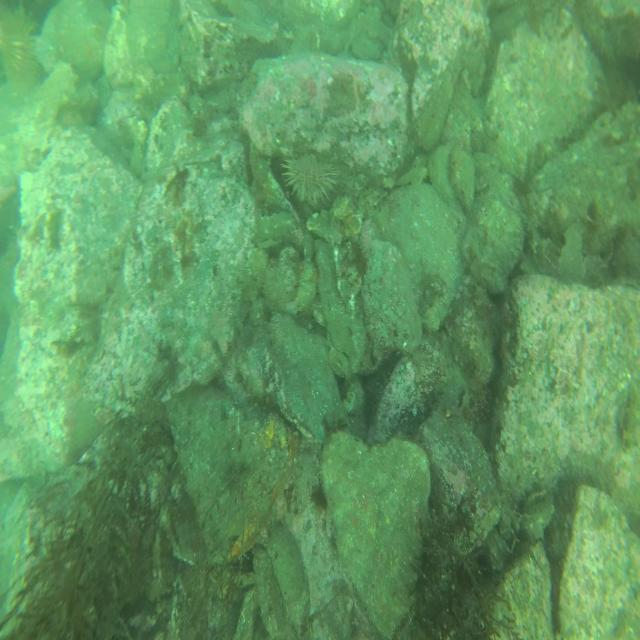echinus: (0, 0, 42, 90), (284, 136, 338, 204)
